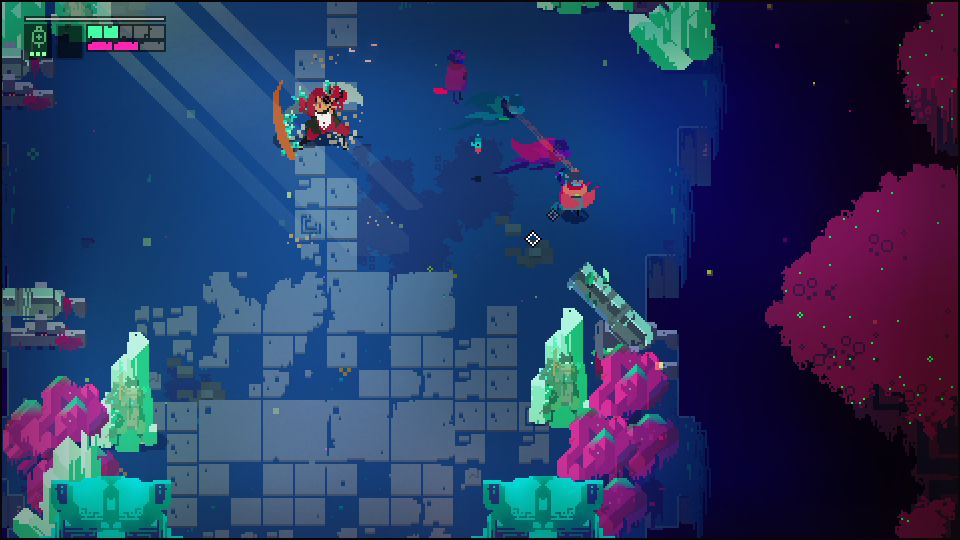hanged_man: (269, 78, 369, 164)
player: (554, 172, 598, 224)
